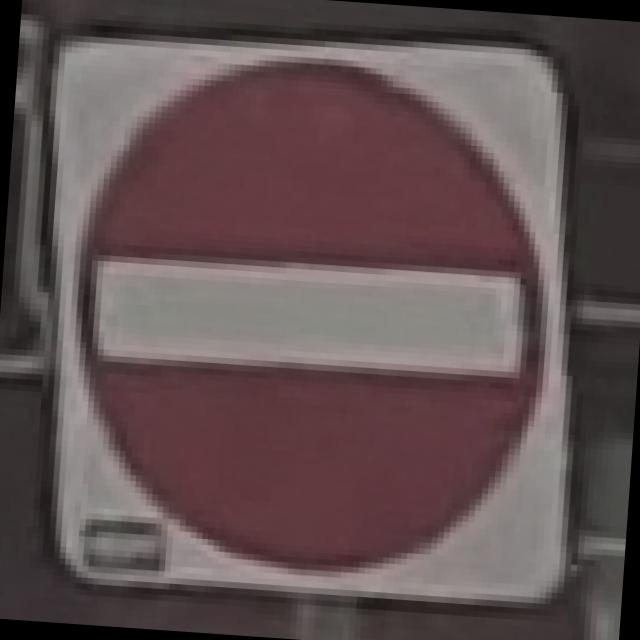noentry_sign: (10, 4, 608, 616)
